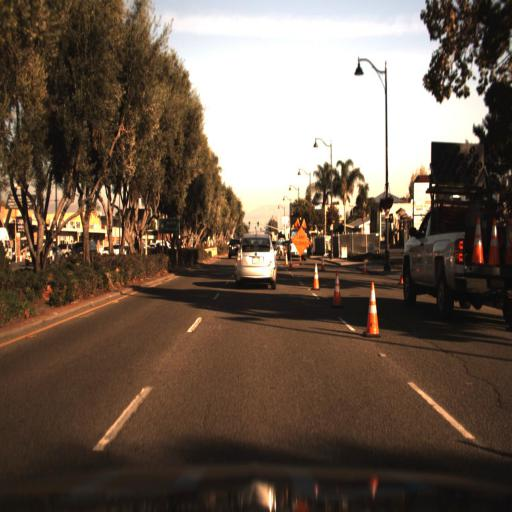car: (401, 198, 511, 320), (232, 230, 274, 290)
